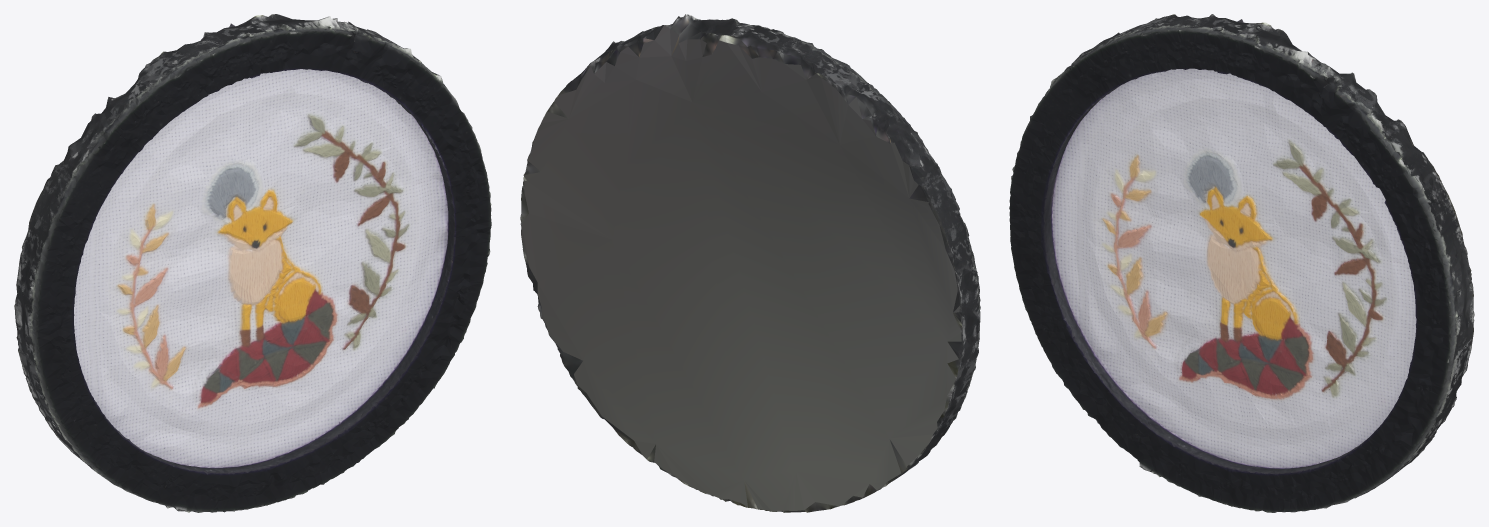
The model's file is FB1DA046-4BF6-AF4F-ADBD-382FBB2960CD_2k.glb.
3 views of the same model, side by side, from view 1: azimuth 30°, elevation 25°; view 2: azimuth 150°, elevation 25°; view 3: azimuth 330°, elevation 25° (orthographic).
Visible parts, largest first — view 1: _Stickerei_Fuchs_2k; view 2: _Stickerei_Fuchs_2k; view 3: _Stickerei_Fuchs_2k.
Part boxes in pixels (x1,y1,x2,y2): _Stickerei_Fuchs_2k: [14, 14, 491, 512]; _Stickerei_Fuchs_2k: [520, 14, 980, 512]; _Stickerei_Fuchs_2k: [1009, 14, 1474, 512].
Size of the model in its own units: 0.0568 by 0.0566 by 0.00616.
Materials: 1 (1 with a texture image).
